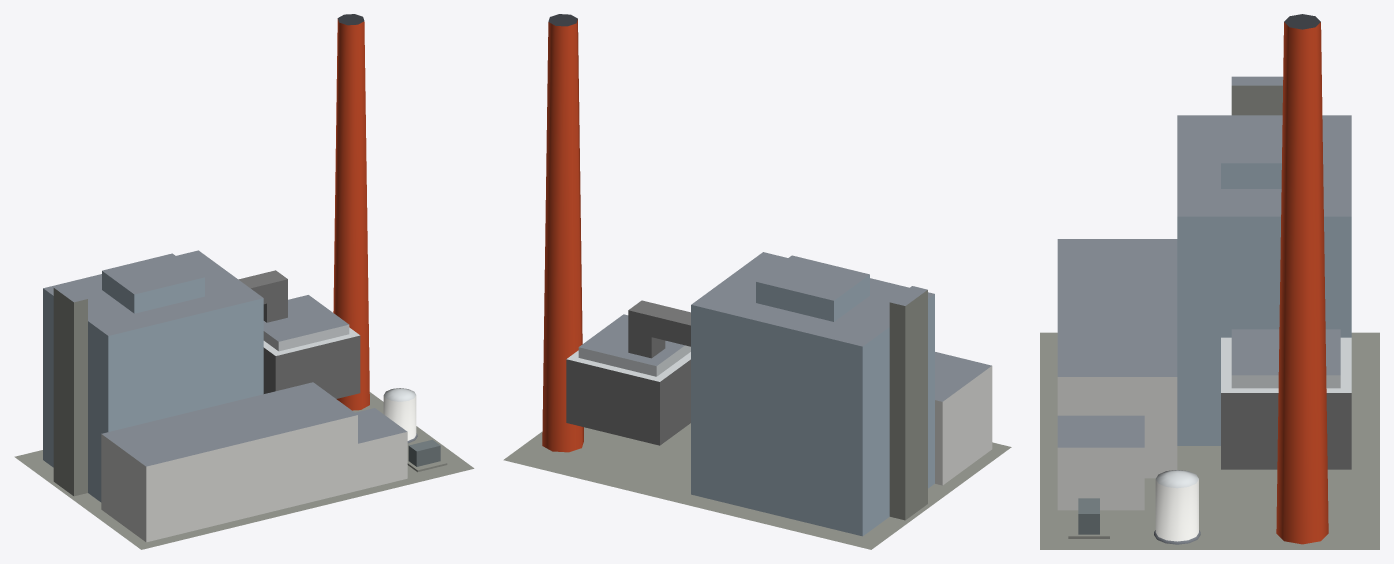
Rendered from mashup-main-top-prebuilt_far.fbx.
The picture shows the model from 3 angles, left to right: view 1: azimuth 30°, elevation 25°; view 2: azimuth 150°, elevation 25°; view 3: azimuth 270°, elevation 25°; orthographic projection. The views are drawn at different scales.
Parts seen in each view (by area): view 1: a1056/0/mashup-main-top-prebuilt_far; view 2: a1056/0/mashup-main-top-prebuilt_far; view 3: a1056/0/mashup-main-top-prebuilt_far.
Part boxes in pixels (bbox=[...]): a1056/0/mashup-main-top-prebuilt_far: bbox=[14, 14, 474, 549]; a1056/0/mashup-main-top-prebuilt_far: bbox=[503, 14, 1011, 549]; a1056/0/mashup-main-top-prebuilt_far: bbox=[1040, 14, 1379, 549].
Bounding box in the file's own units: 47.2 × 52.3 × 31.2.
